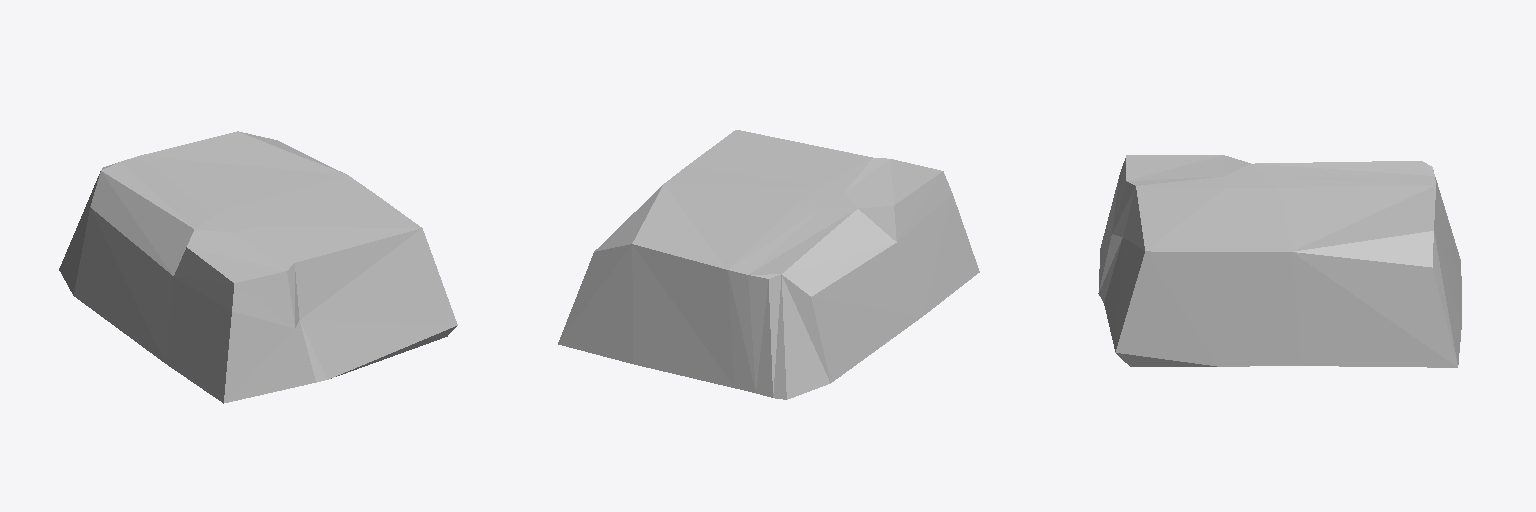
File: Pebble_Square_5.obj
3 views of the same model, side by side, from view 1: azimuth 30°, elevation 25°; view 2: azimuth 150°, elevation 25°; view 3: azimuth 270°, elevation 25° (orthographic).
Visible parts, largest first — view 1: Pebble_Square_5; view 2: Pebble_Square_5; view 3: Pebble_Square_5.
Boxes of the visible parts, x1,y1,x2,y2 form: Pebble_Square_5: [59, 131, 457, 403]; Pebble_Square_5: [558, 130, 979, 399]; Pebble_Square_5: [1098, 155, 1461, 367].
Bounding box in the file's own units: 0.352 × 0.1522 × 0.4504.